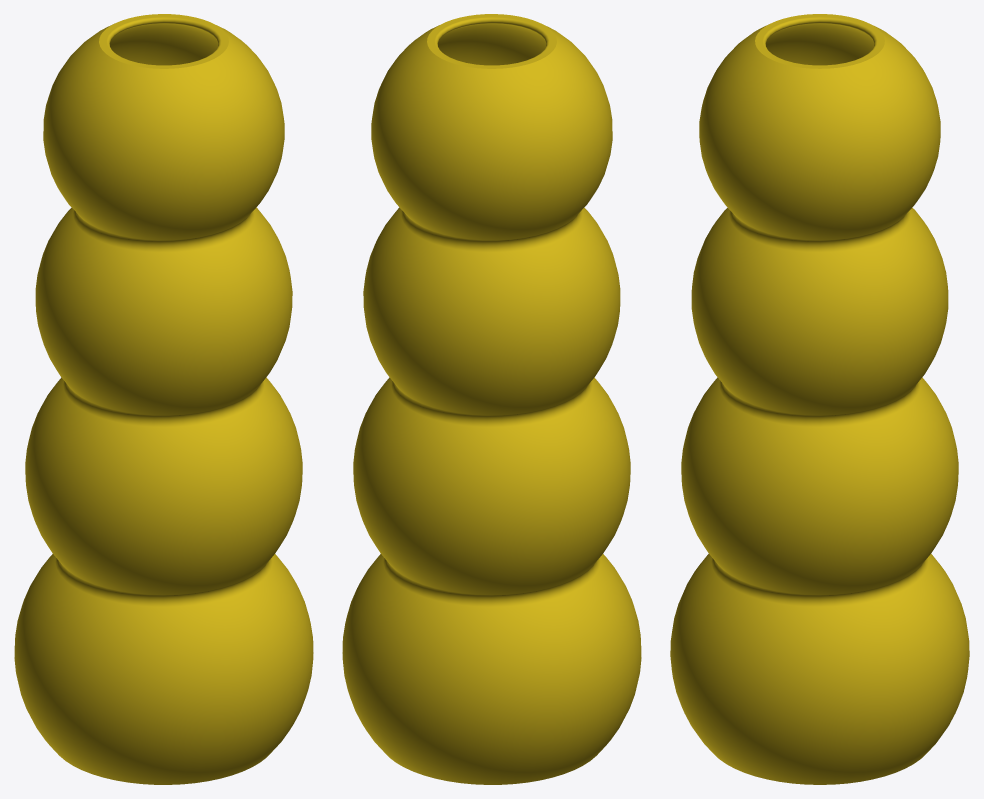
File: uploads_files_5027316_REVO+3.fbx
The picture shows the model from 3 angles, left to right: view 1: azimuth 30°, elevation 25°; view 2: azimuth 150°, elevation 25°; view 3: azimuth 270°, elevation 25°; orthographic projection.
Parts seen in each view (by area): view 1: Part1; view 2: Part1; view 3: Part1.
Part boxes in pixels (<box>): Part1: <box>14,14,313,784</box>; Part1: <box>342,14,641,784</box>; Part1: <box>670,14,969,784</box>.
Bounding box in the file's own units: 91.99 × 236 × 91.99.
